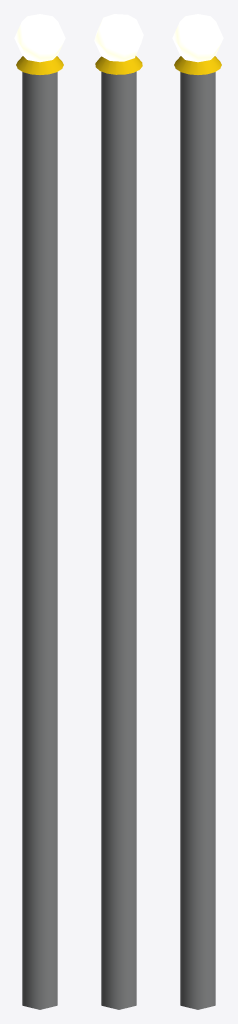
Rendered from RunwayLight01-WarmWhite_LOD4.gltf.
The picture shows the model from 3 angles, left to right: view 1: azimuth 90°, elevation 25°; view 2: azimuth 150°, elevation 25°; view 3: azimuth 270°, elevation 25°; orthographic projection.
Parts seen in each view (by area): view 1: Light001; view 2: Light001; view 3: Light001.
Part boxes in pixels (x1=…): Light001: x1=14, y1=14, x2=65, y2=1009; Light001: x1=94, y1=14, x2=143, y2=1009; Light001: x1=172, y1=14, x2=223, y2=1009.
Size of the model in its own units: 0.5 by 10.59 by 0.5.
